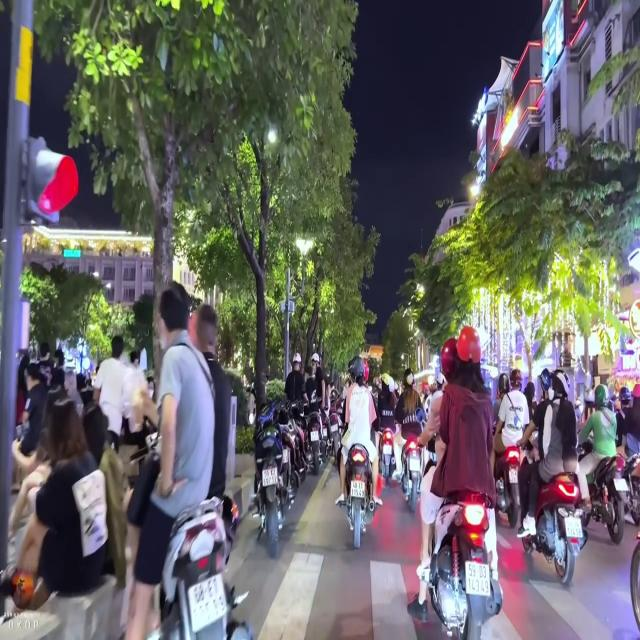bien_trang: (185, 573, 228, 629), (462, 553, 492, 600), (260, 462, 279, 485), (351, 478, 366, 500)
